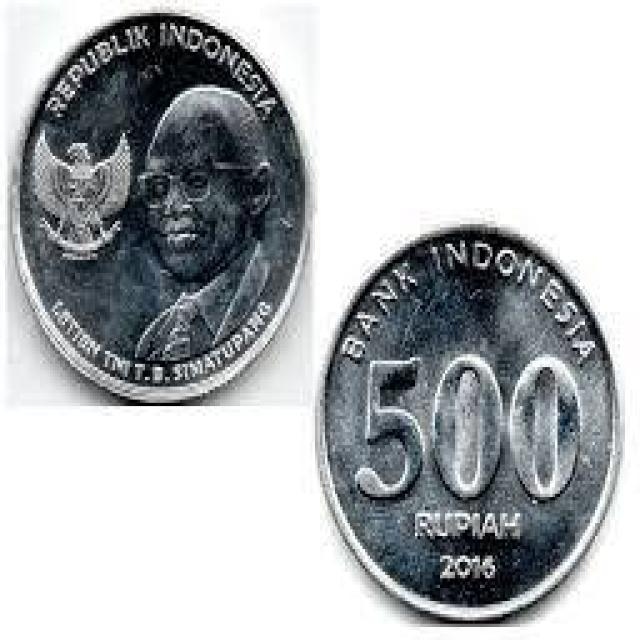500-silver: (300, 209, 640, 618)
